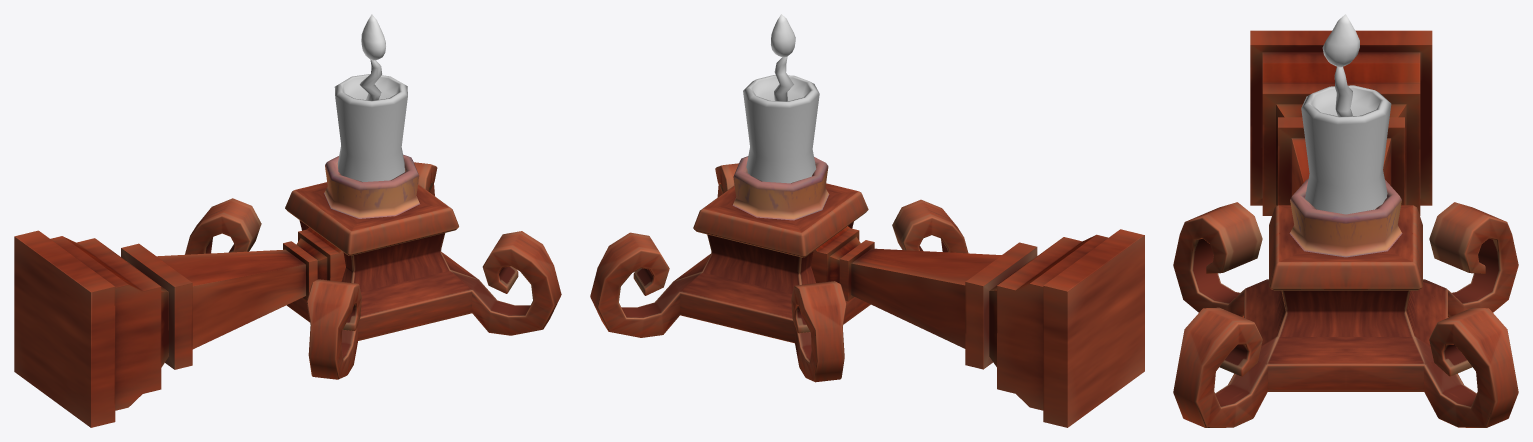
File: lvl_2_candle_holder_wall.fbx
The picture shows the model from 3 angles, left to right: view 1: azimuth 30°, elevation 25°; view 2: azimuth 150°, elevation 25°; view 3: azimuth 270°, elevation 25°; orthographic projection. The views are drawn at different scales.
Visible parts, largest first — view 1: columne_v2.014, candle_holder.007, candle.015, Sphere.006, lont.011; view 2: columne_v2.014, candle_holder.007, candle.015, Sphere.006, lont.011; view 3: candle_holder.007, columne_v2.014, candle.015, Sphere.006, lont.011.
Part boxes in pixels (x1,y1,x2,y2): columne_v2.014: [14, 227, 345, 427]; candle_holder.007: [185, 154, 561, 379]; candle.015: [334, 74, 407, 181]; Sphere.006: [361, 14, 385, 60]; lont.011: [360, 60, 381, 100]; columne_v2.014: [811, 226, 1144, 427]; candle_holder.007: [590, 156, 968, 382]; candle.015: [743, 75, 819, 183]; Sphere.006: [771, 14, 795, 57]; lont.011: [774, 56, 793, 101]; candle_holder.007: [1173, 179, 1518, 427]; columne_v2.014: [1250, 30, 1432, 215]; candle.015: [1301, 85, 1391, 214]; Sphere.006: [1322, 14, 1359, 67]; lont.011: [1334, 66, 1352, 116].
Size of the model in its own units: 973 by 636 by 548.
